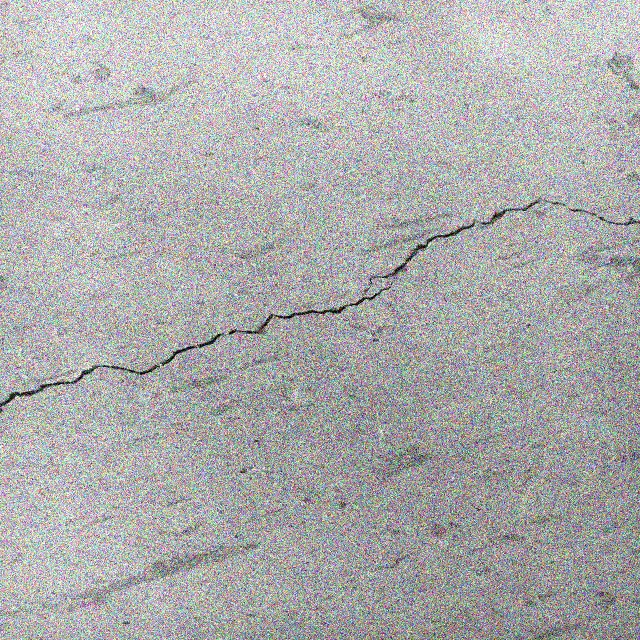SurfaceCrack: (1, 169, 640, 427)
